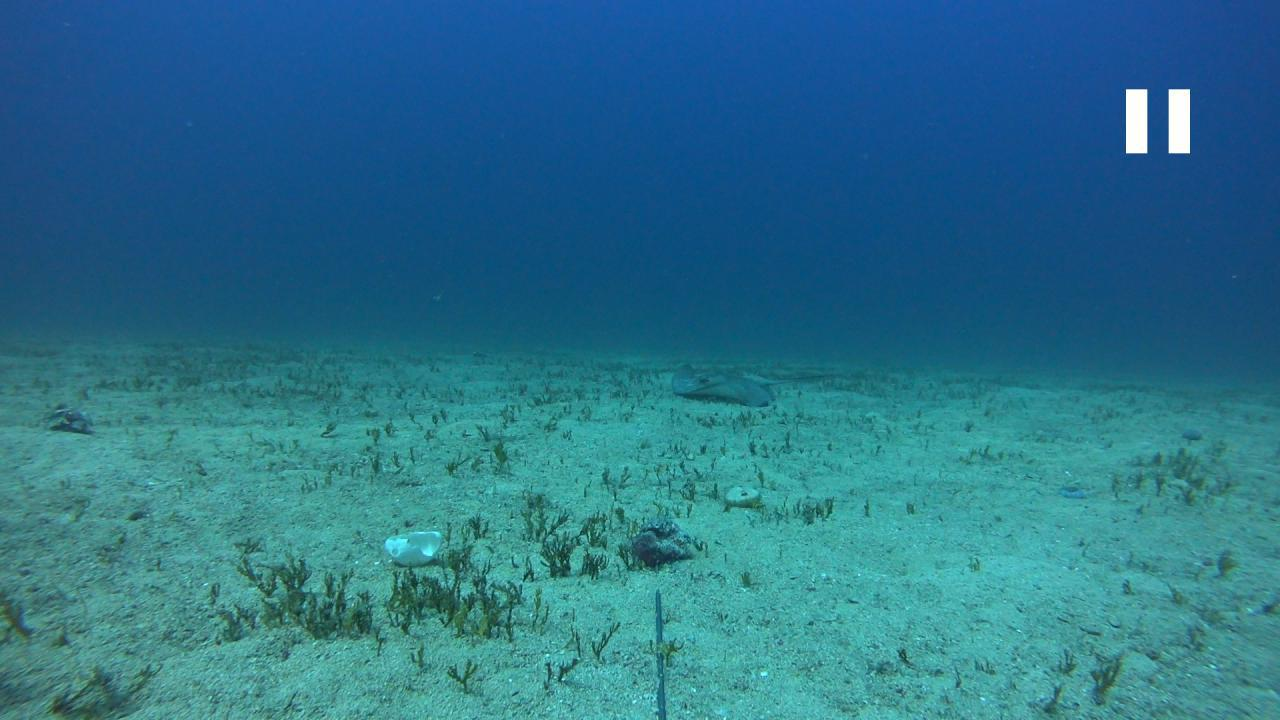dasyatis: (670, 360, 844, 408)
